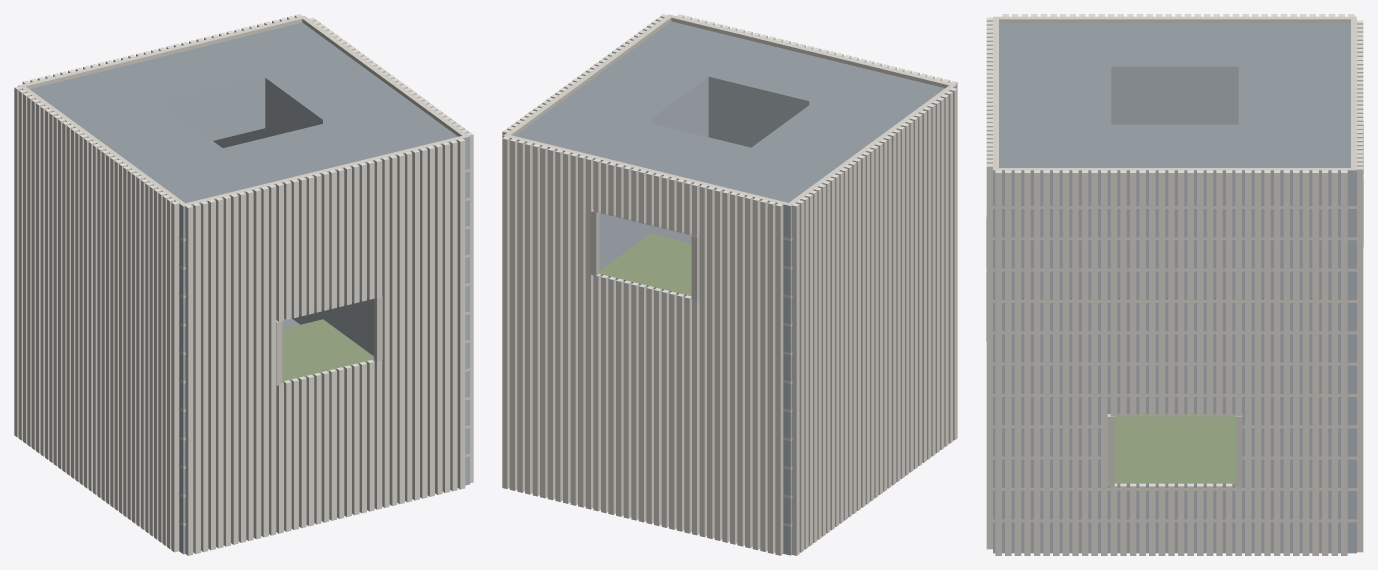
File: seoul-amorepacific.glb
The picture shows the model from 3 angles, left to right: view 1: azimuth 30°, elevation 25°; view 2: azimuth 150°, elevation 25°; view 3: azimuth 270°, elevation 25°; orthographic projection. The views are drawn at different scales.
Visible parts, largest first — view 1: Amorepacific Headquarters; view 2: Amorepacific Headquarters; view 3: Amorepacific Headquarters.
Boxes of the visible parts, x1,y1,x2,y2 form: Amorepacific Headquarters: (14,14,473,555); Amorepacific Headquarters: (502,14,957,555); Amorepacific Headquarters: (986,14,1363,555).
Bounding box in the file's own units: 98.1 × 110 × 98.2.
